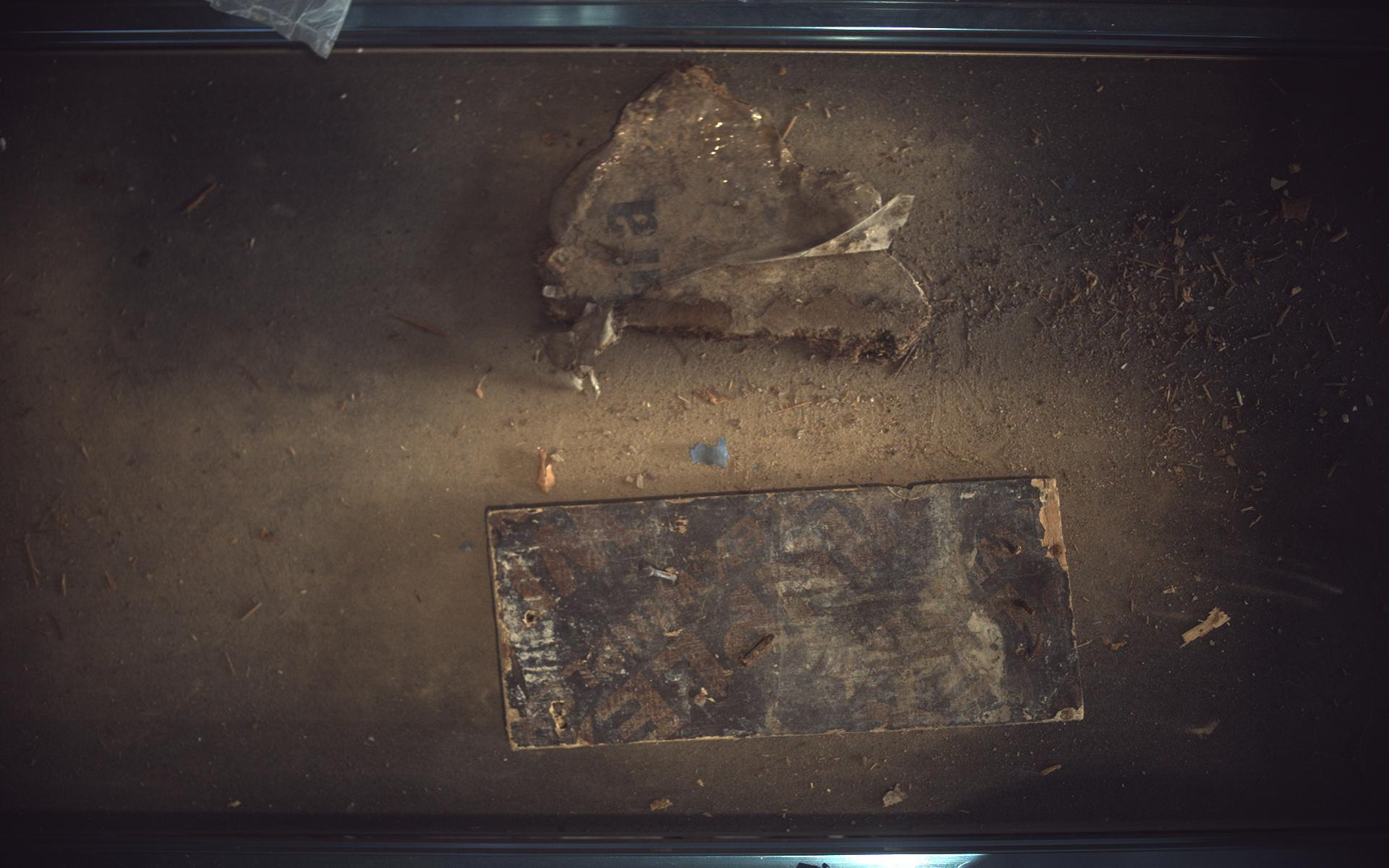wood: (487, 478, 1087, 750), (541, 61, 933, 376)
